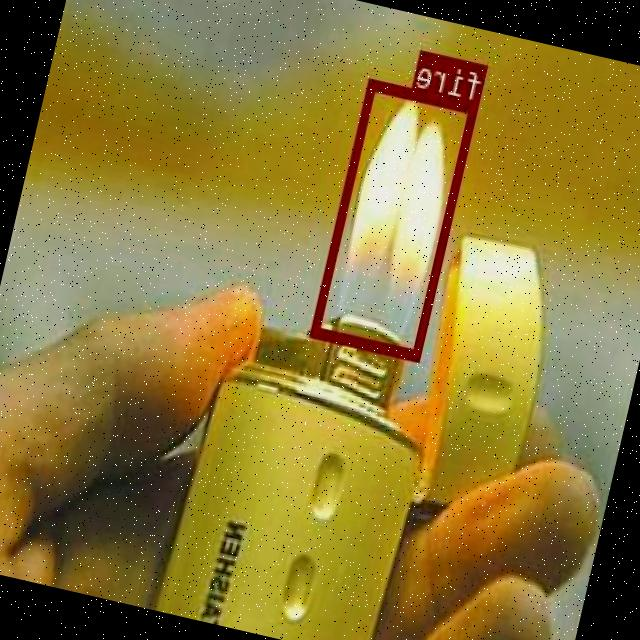fire: (312, 77, 479, 360)
